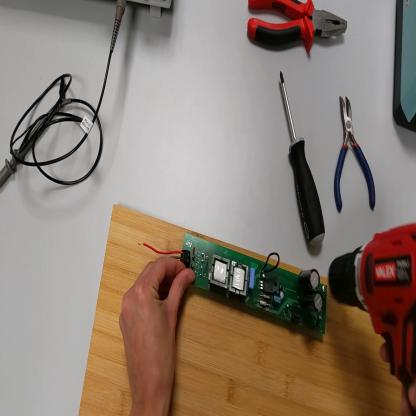electric screwdriver: (327, 220, 416, 415)
hand: (119, 254, 195, 402), (382, 339, 415, 413)
high voltage board: (139, 231, 326, 334)
oscilloscope: (126, 1, 174, 17)
oscilloscope probe tip: (3, 97, 72, 187)
pliers: (335, 94, 378, 215), (246, 3, 351, 52)
screwdriver-: (280, 71, 325, 249)
welder station: (396, 1, 416, 134)
working area: (79, 203, 400, 416)
